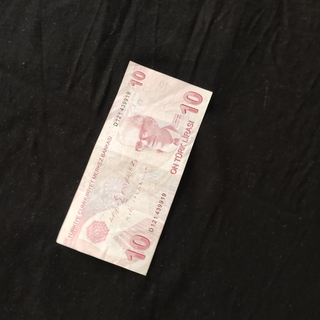10TLBack: (54, 58, 214, 277)
